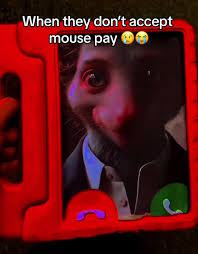mouse-pay: (58, 34, 192, 215)
